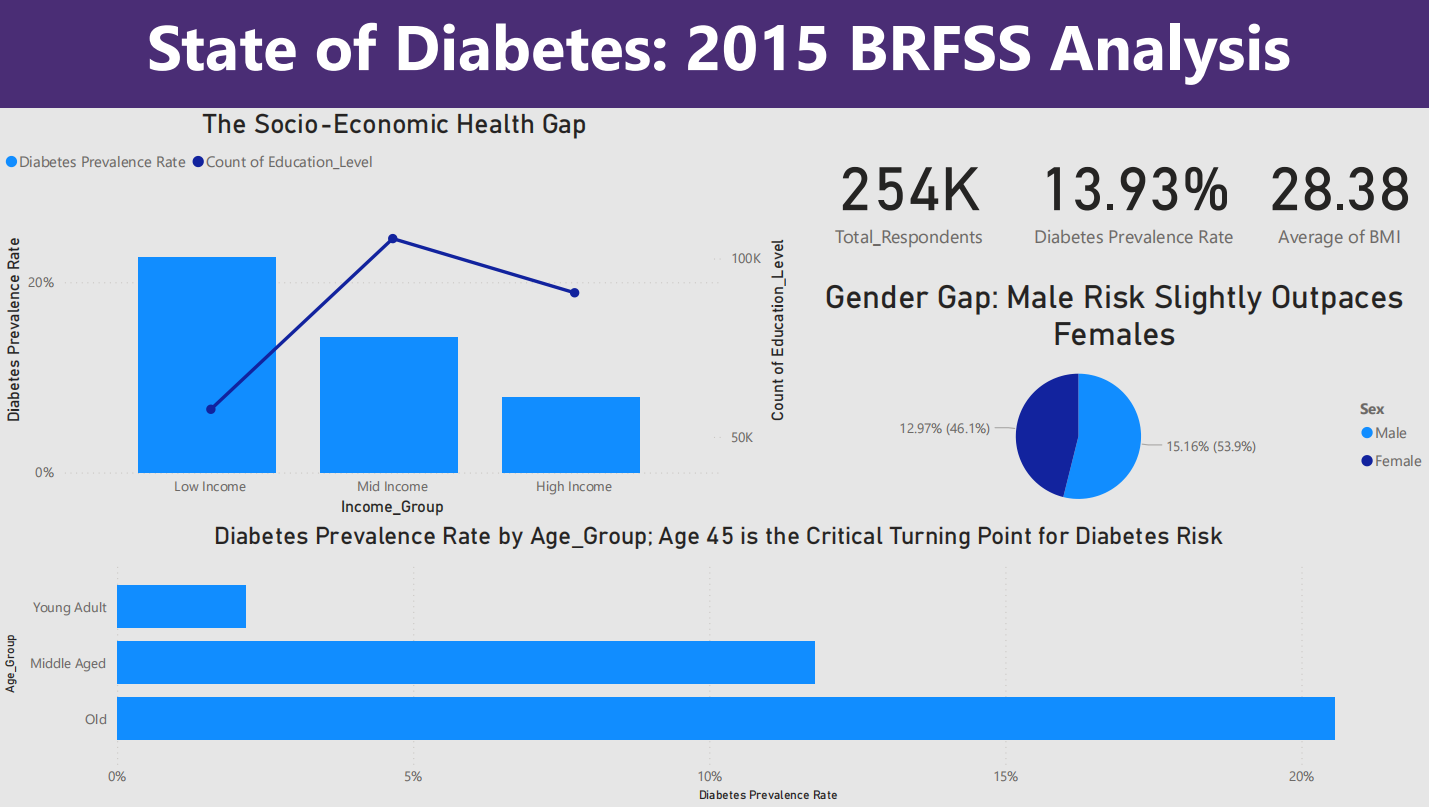

The page's visual inventory and layout, read from the dashboard file:
{"tool":"powerbi","page":{"name":"Executive Summary","canvas":[1280,720],"ordinal":0},"visuals":[{"type":"textbox","box":[0,0,1280,97.7],"z":0},{"type":"card","fields":{"Values":["Diabetes_Data.Total_Respondents"]},"box":[703.8,99,210.7,150],"z":1000},{"type":"card","fields":{"Values":["Diabetes_Data.Diabetes Prevalence Rate"]},"box":[914.5,99,189.9,150],"z":2000},{"type":"card","fields":{"Values":["Avg(Diabetes_Data.BMI)"]},"box":[1104.4,99,175.6,150],"z":3000},{"type":"pieChart","title":"Gender Gap: Male Risk Slightly Outpaces Females","fields":{"Category":["Diabetes_Data.Sex"],"Y":["Diabetes_Data.Diabetes Prevalence Rate"]},"box":[703.8,249,576.2,217.1],"z":4000},{"type":"barChart","title":"Diabetes Prevalence Rate by Age_Group; Age 45 is the Critical Turning Point for Diabetes Risk","fields":{"Category":["Diabetes_Data.Age_Group"],"Y":["Diabetes_Data.Diabetes Prevalence Rate"]},"box":[0,466.2,1280,253.9],"z":5000},{"type":"lineStackedColumnComboChart","title":"The Socio-Economic Health Gap","fields":{"Category":["Diabetes_Data.Income_Group"],"Y":["Diabetes_Data.Diabetes Prevalence Rate"],"Y2":["CountNonNull(Diabetes_Data.Education_Level)"]},"box":[0,99,703.8,367.1],"z":6000}]}

Visuals, with their boxes in screenshot pixels (x1, y1, x2, y2), scaled from the page's 1280x720 canvas onto the 1429x810 screenshot:
textbox: pyautogui.locateOnScreen(0, 0, 1428, 110)
card - Diabetes_Data.Total_Respondents: pyautogui.locateOnScreen(786, 111, 1021, 280)
card - Diabetes_Data.Diabetes Prevalence Rate: pyautogui.locateOnScreen(1021, 111, 1233, 280)
card - Avg(Diabetes_Data.BMI): pyautogui.locateOnScreen(1233, 111, 1428, 280)
"Gender Gap: Male Risk Slightly Outpaces Females" pieChart: pyautogui.locateOnScreen(786, 280, 1428, 524)
"Diabetes Prevalence Rate by Age_Group; Age 45 is the Critical Turning Point for Diabetes Risk" barChart: pyautogui.locateOnScreen(0, 524, 1428, 809)
"The Socio-Economic Health Gap" lineStackedColumnComboChart: pyautogui.locateOnScreen(0, 111, 786, 524)
